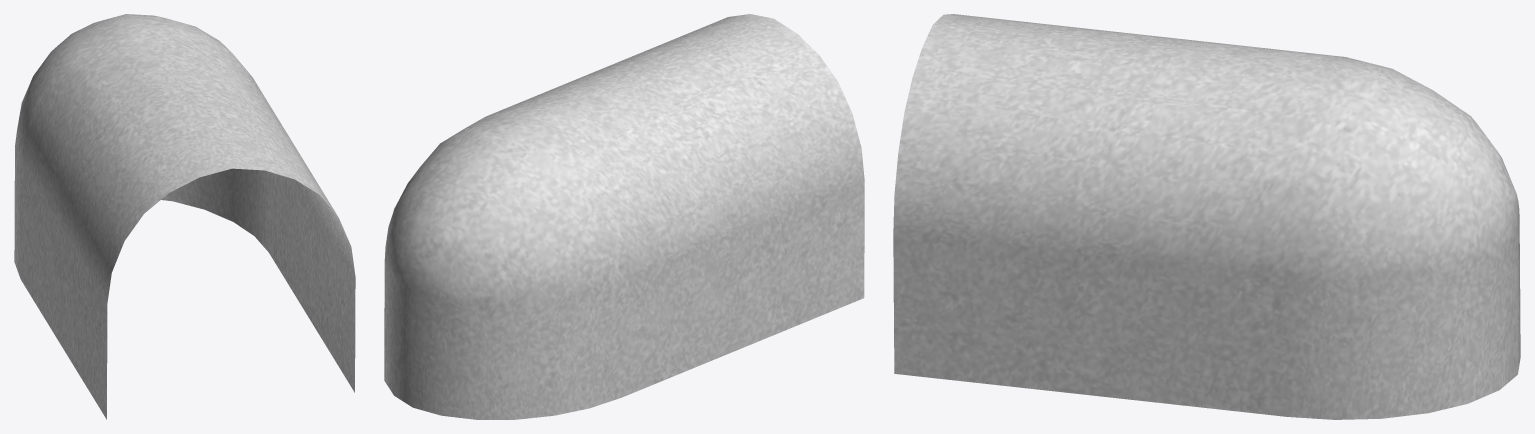
File: pref_sm_garden_bornglass02_lv2.fbx
3 views of the same model, side by side, from view 1: azimuth 30°, elevation 25°; view 2: azimuth 150°, elevation 25°; view 3: azimuth 270°, elevation 25° (orthographic). The views are drawn at different scales.
Visible parts, largest first — view 1: pref_sm_garden_bornglass02_lv2; view 2: pref_sm_garden_bornglass02_lv2; view 3: pref_sm_garden_bornglass02_lv2.
Part boxes in pixels (box(x1,y1,x2,y2)): pref_sm_garden_bornglass02_lv2: box(14, 14, 355, 419); pref_sm_garden_bornglass02_lv2: box(384, 14, 864, 419); pref_sm_garden_bornglass02_lv2: box(893, 14, 1520, 419).
Bounding box in the file's own units: 5.73 × 4.43 × 8.73.
